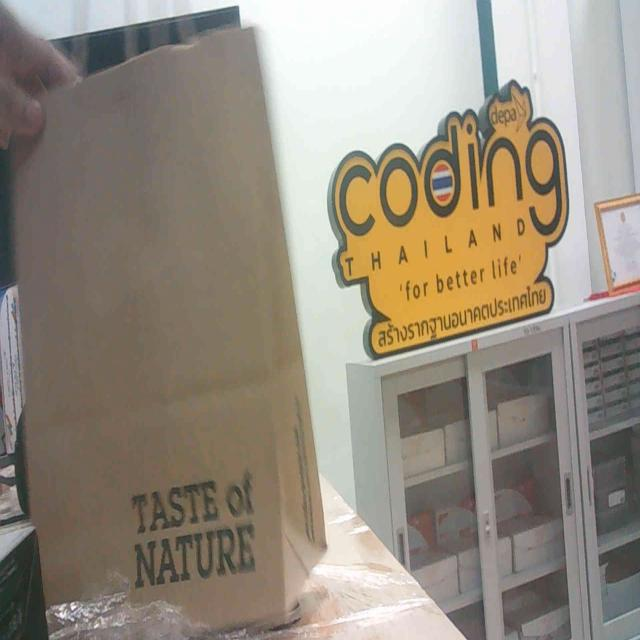bag: (22, 54, 304, 587)
